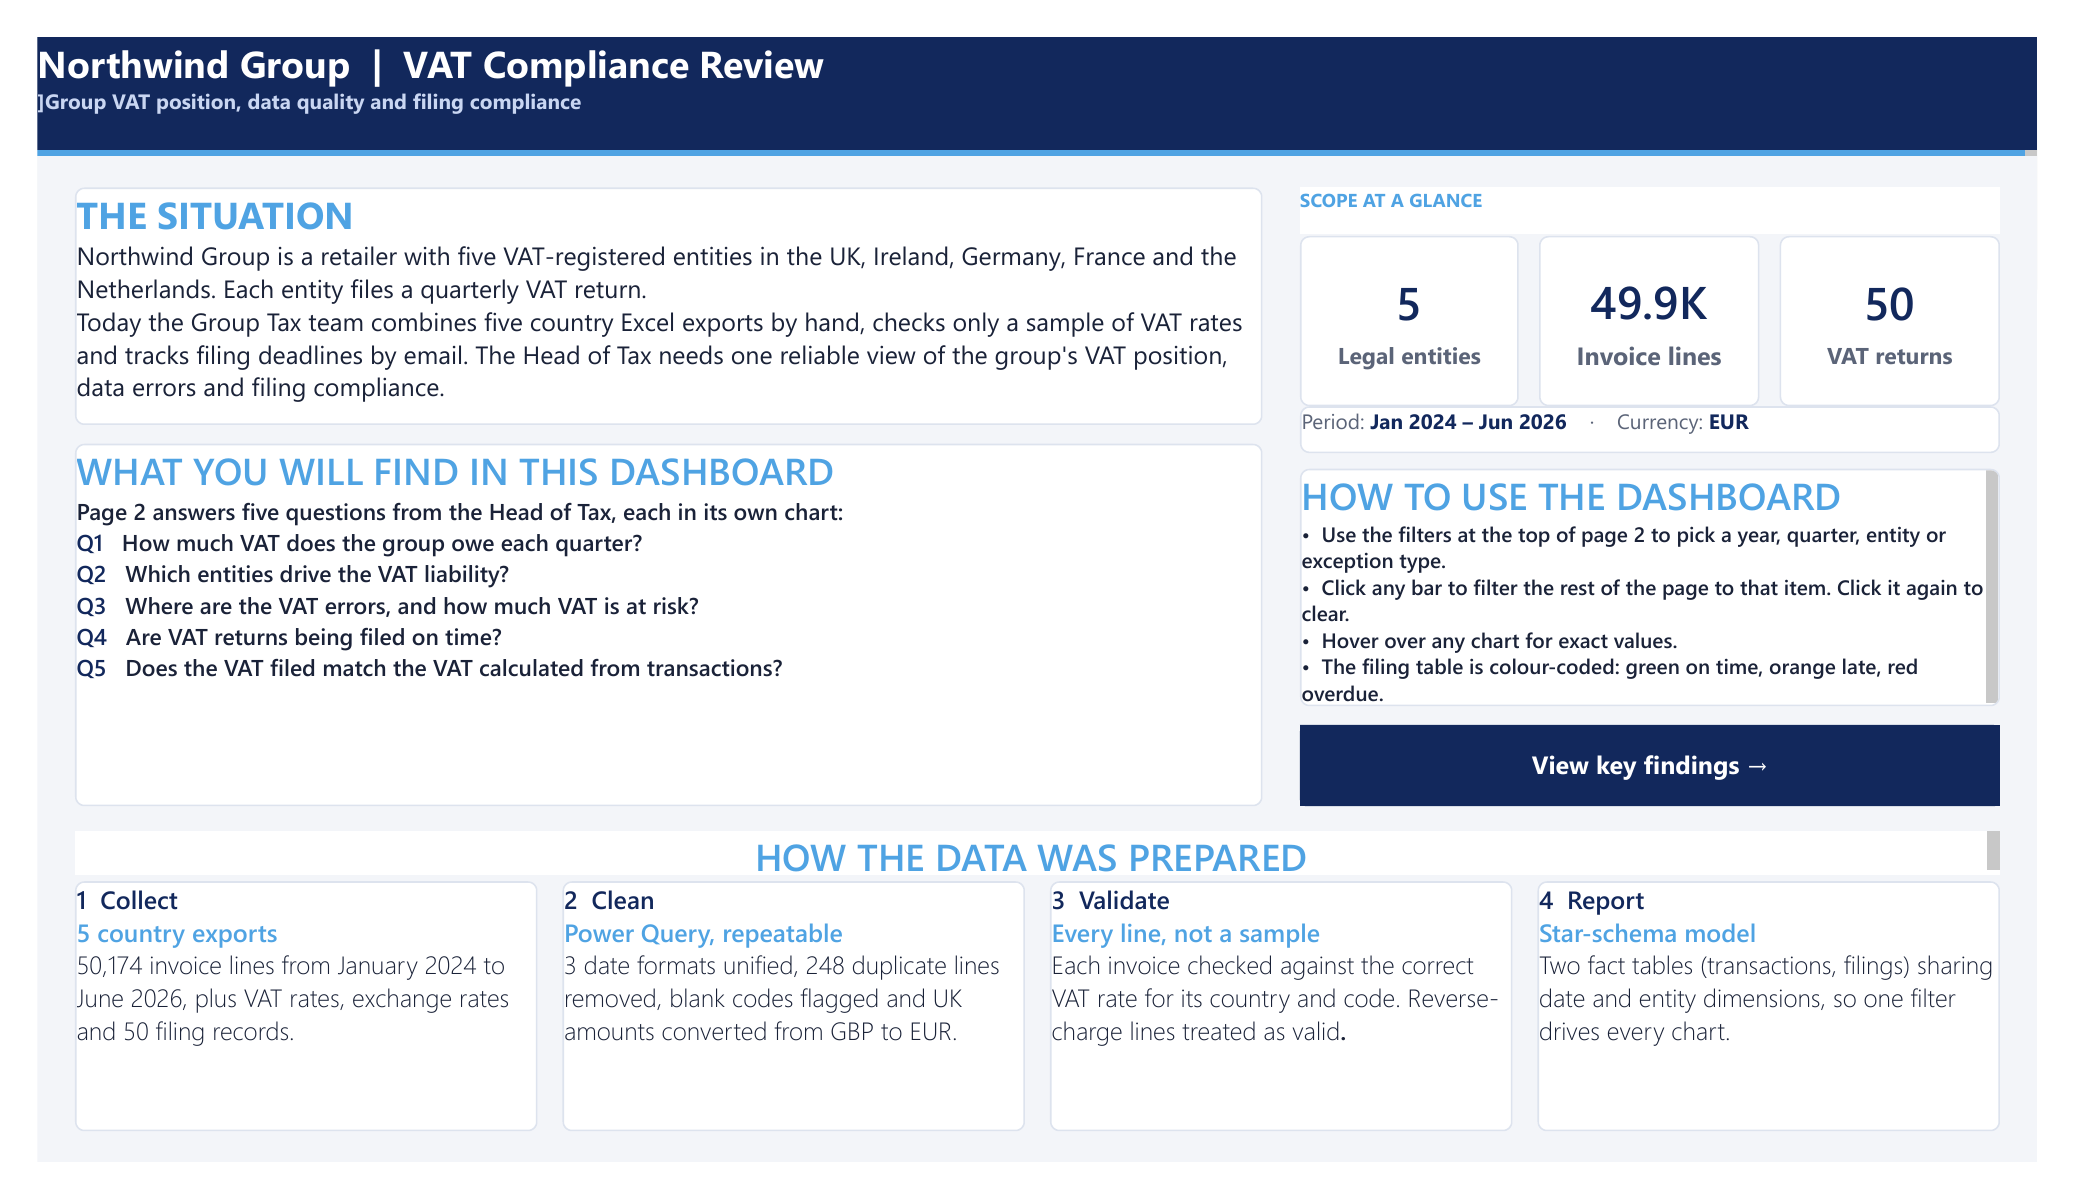

This screenshot's page, from the dashboard's own definition file:
{"tool":"powerbi","page":{"name":"Case Overview","canvas":[1280,720],"ordinal":0},"visuals":[{"type":"textbox","box":[0,0,1280,72],"z":1000},{"type":"textbox","box":[0,72,1280,4],"z":2000},{"type":"textbox","box":[24,96,760,152],"z":3000},{"type":"textbox","box":[24,260,760,232],"z":4000},{"type":"textbox","box":[808,96,448,30],"z":5000},{"type":"card","fields":{"Values":["FactVATTransactions.Entities"]},"box":[808.4,127.5,139.9,108.8],"z":6000},{"type":"card","fields":{"Values":["FactVATTransactions.Transactions"]},"box":[960.8,127.5,141.5,108.8],"z":7000},{"type":"card","fields":{"Values":["FactFilings.Returns"]},"box":[1114.7,127.5,141.5,108.8],"z":8000},{"type":"textbox","box":[808.4,236.3,447.7,29.5],"z":9000},{"type":"textbox","box":[808,276,448,152],"z":10000},{"type":"actionButton","box":[808,440,448,52],"z":11000},{"type":"textbox","box":[24,508,1232,28],"z":12000},{"type":"textbox","box":[24,540,296,160],"z":13000},{"type":"textbox","box":[336,540,296,160],"z":14000},{"type":"textbox","box":[648,540,296,160],"z":15000},{"type":"textbox","box":[960,540,296,160],"z":16000}]}

Visuals, with their boxes on the page's 1280x720 design canvas (x1, y1, x2, y2). These are canvas units, not pixel positions in the 2075x1200 screenshot, which may show the page scaled, cropped or inside an application window:
textbox: 0, 0, 1280, 72
textbox: 0, 72, 1280, 76
textbox: 24, 96, 784, 248
textbox: 24, 260, 784, 492
textbox: 808, 96, 1256, 126
card - FactVATTransactions.Entities: 808, 128, 948, 236
card - FactVATTransactions.Transactions: 961, 128, 1102, 236
card - FactFilings.Returns: 1115, 128, 1256, 236
textbox: 808, 236, 1256, 266
textbox: 808, 276, 1256, 428
actionButton: 808, 440, 1256, 492
textbox: 24, 508, 1256, 536
textbox: 24, 540, 320, 700
textbox: 336, 540, 632, 700
textbox: 648, 540, 944, 700
textbox: 960, 540, 1256, 700
